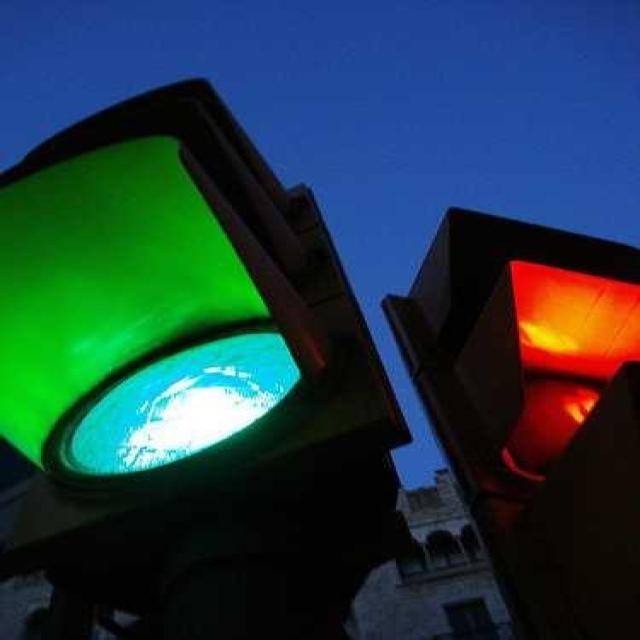Traffic Light -Green-: (5, 27, 392, 572)
Traffic Light -Yellow-: (408, 77, 640, 619)
